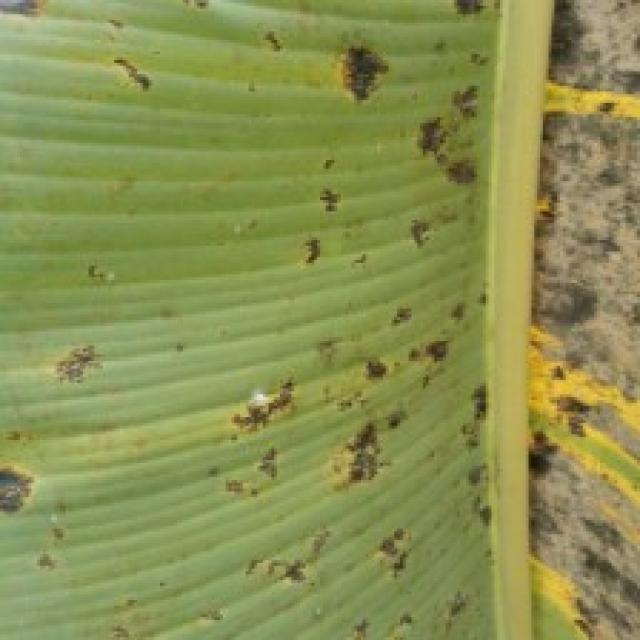Downey_mildrew: (194, 140, 439, 640), (414, 1, 501, 640), (0, 421, 77, 600), (331, 35, 391, 117), (105, 46, 167, 104), (51, 346, 119, 386), (235, 32, 305, 63), (0, 0, 57, 37)
